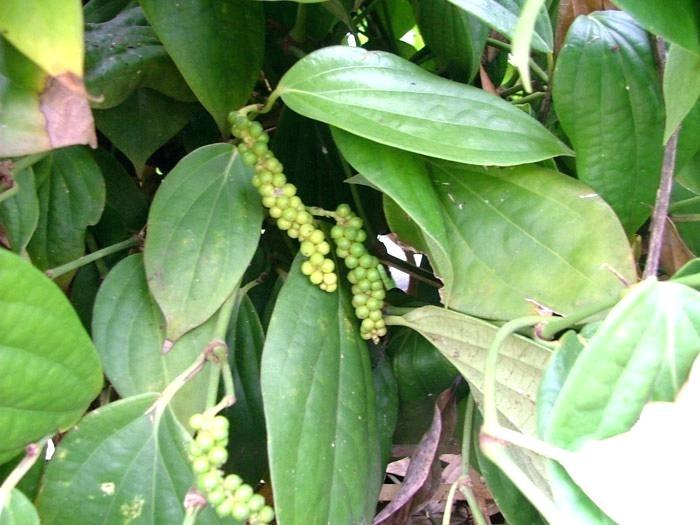Bell_pepper leaf spot: (398, 143, 645, 330), (278, 39, 582, 182), (260, 229, 400, 525), (146, 141, 267, 341), (45, 396, 230, 525)
